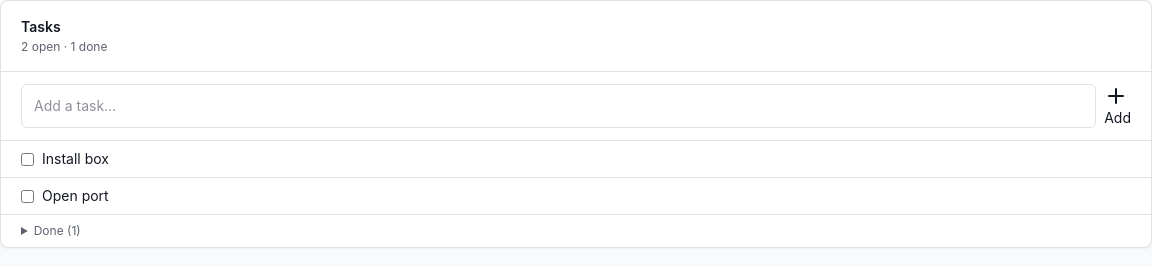
Test: ProjectTasks › renames a task in place
The image size is (1152, 267).
Click the button "Install box".
click(75, 158)  # box [42,147,1051,171]
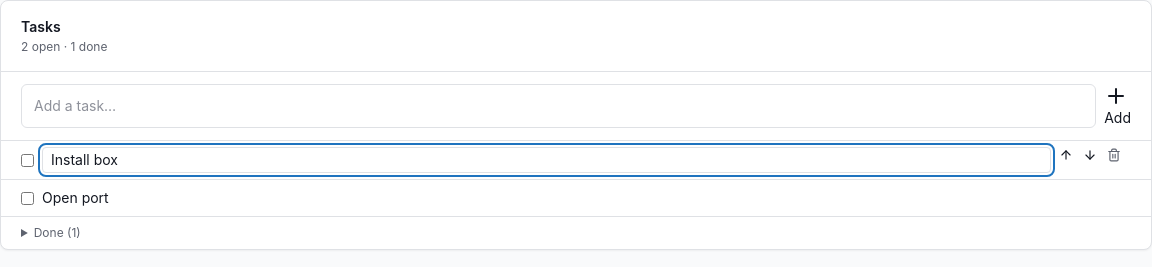
Replace the text in the field named "Rename “Install box”" with "Install the box" at x=546, y=160, box [42,147,1051,173]
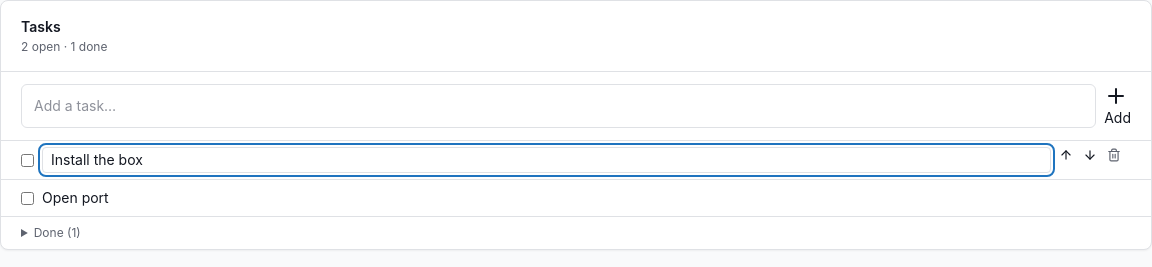
Press Enter in the field named "Rename “Install box”", box [42,147,1051,173]
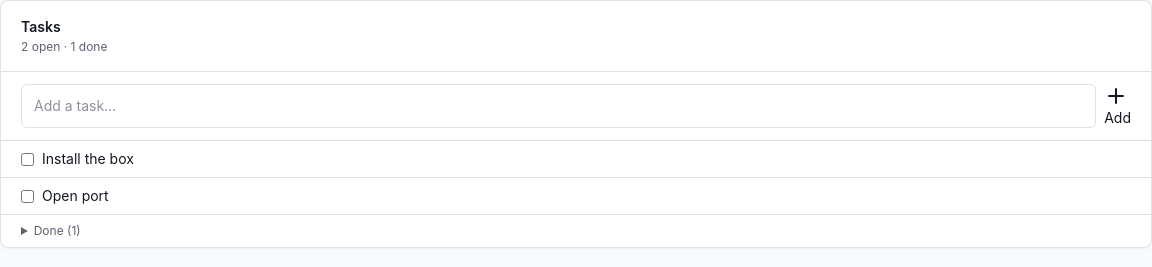
Now the text "Install the box" is shown, box [42,147,1051,171]
